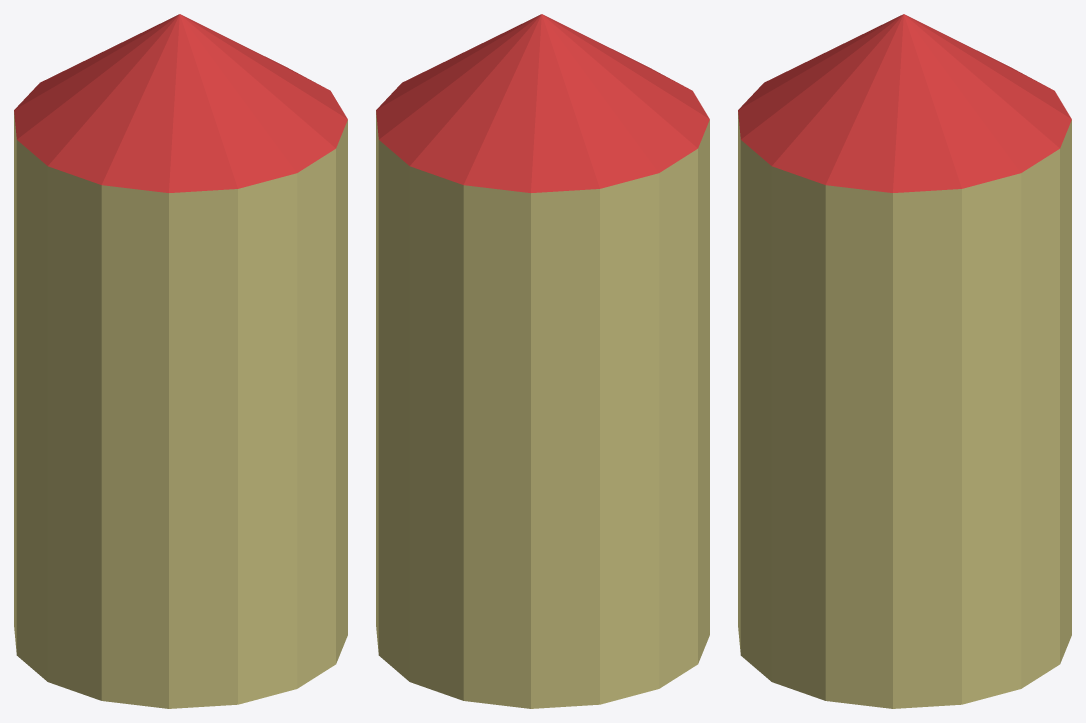
The picture shows the model from 3 angles, left to right: view 1: azimuth 30°, elevation 25°; view 2: azimuth 150°, elevation 25°; view 3: azimuth 270°, elevation 25°; orthographic projection.
Bounding box in the file's own units: 7.66 × 7.65 × 15.78.
